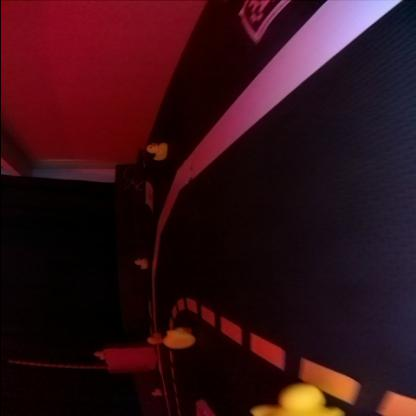Duckie: (248, 385, 341, 415), (162, 328, 194, 350), (144, 144, 166, 161), (132, 259, 146, 269)
QR code: (236, 1, 290, 41)
